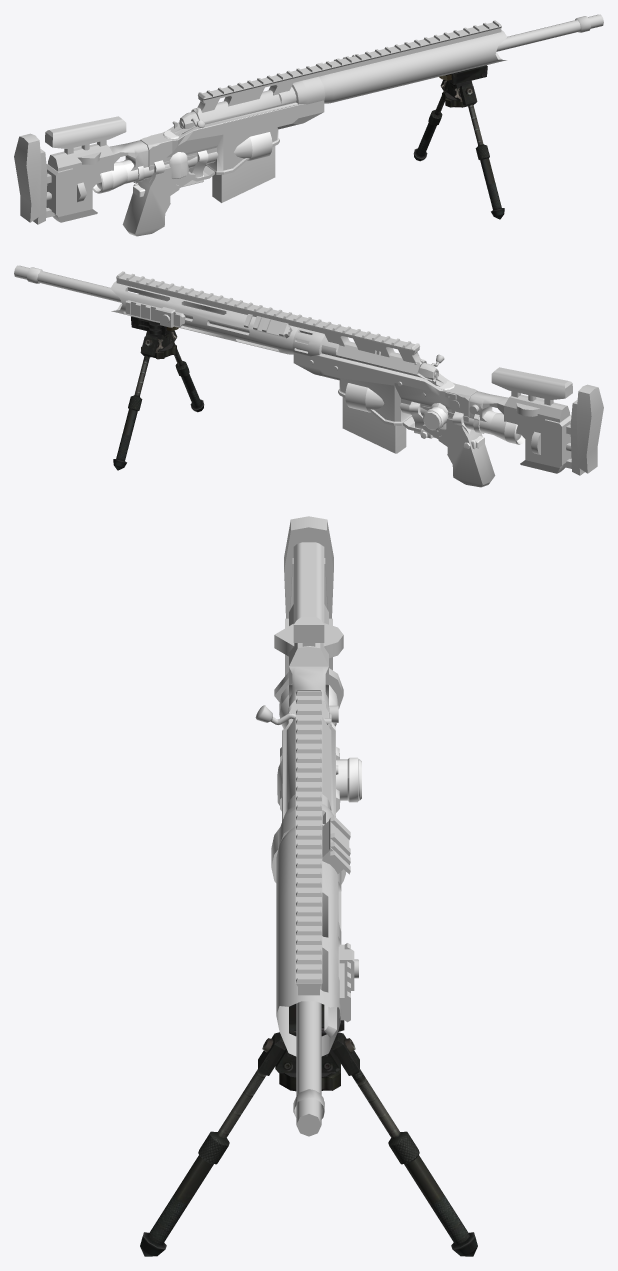
The model's file is msr.glb.
3 views of the same model, one above another, from view 1: azimuth 30°, elevation 25°; view 2: azimuth 150°, elevation 25°; view 3: azimuth 270°, elevation 25° (orthographic). The views are drawn at different scales.
Visible parts, largest first — view 1: vm_iw5_msr_up, vm_iw5_msr_hip_scope; view 2: vm_iw5_msr_up, vm_iw5_msr_hip_scope; view 3: vm_iw5_msr_up, vm_iw5_msr_hip_scope.
Part boxes in pixels (bbox=[...]): vm_iw5_msr_up: bbox=[14, 14, 603, 236]; vm_iw5_msr_hip_scope: bbox=[92, 130, 272, 197]; vm_iw5_msr_up: bbox=[14, 265, 603, 487]; vm_iw5_msr_hip_scope: bbox=[345, 381, 525, 449]; vm_iw5_msr_up: bbox=[140, 516, 477, 1256]; vm_iw5_msr_hip_scope: bbox=[271, 685, 361, 884].
Bounding box in the file's own units: 0.7859 × 0.2044 × 0.1982.
Materials: 4 (1 with a texture image).
